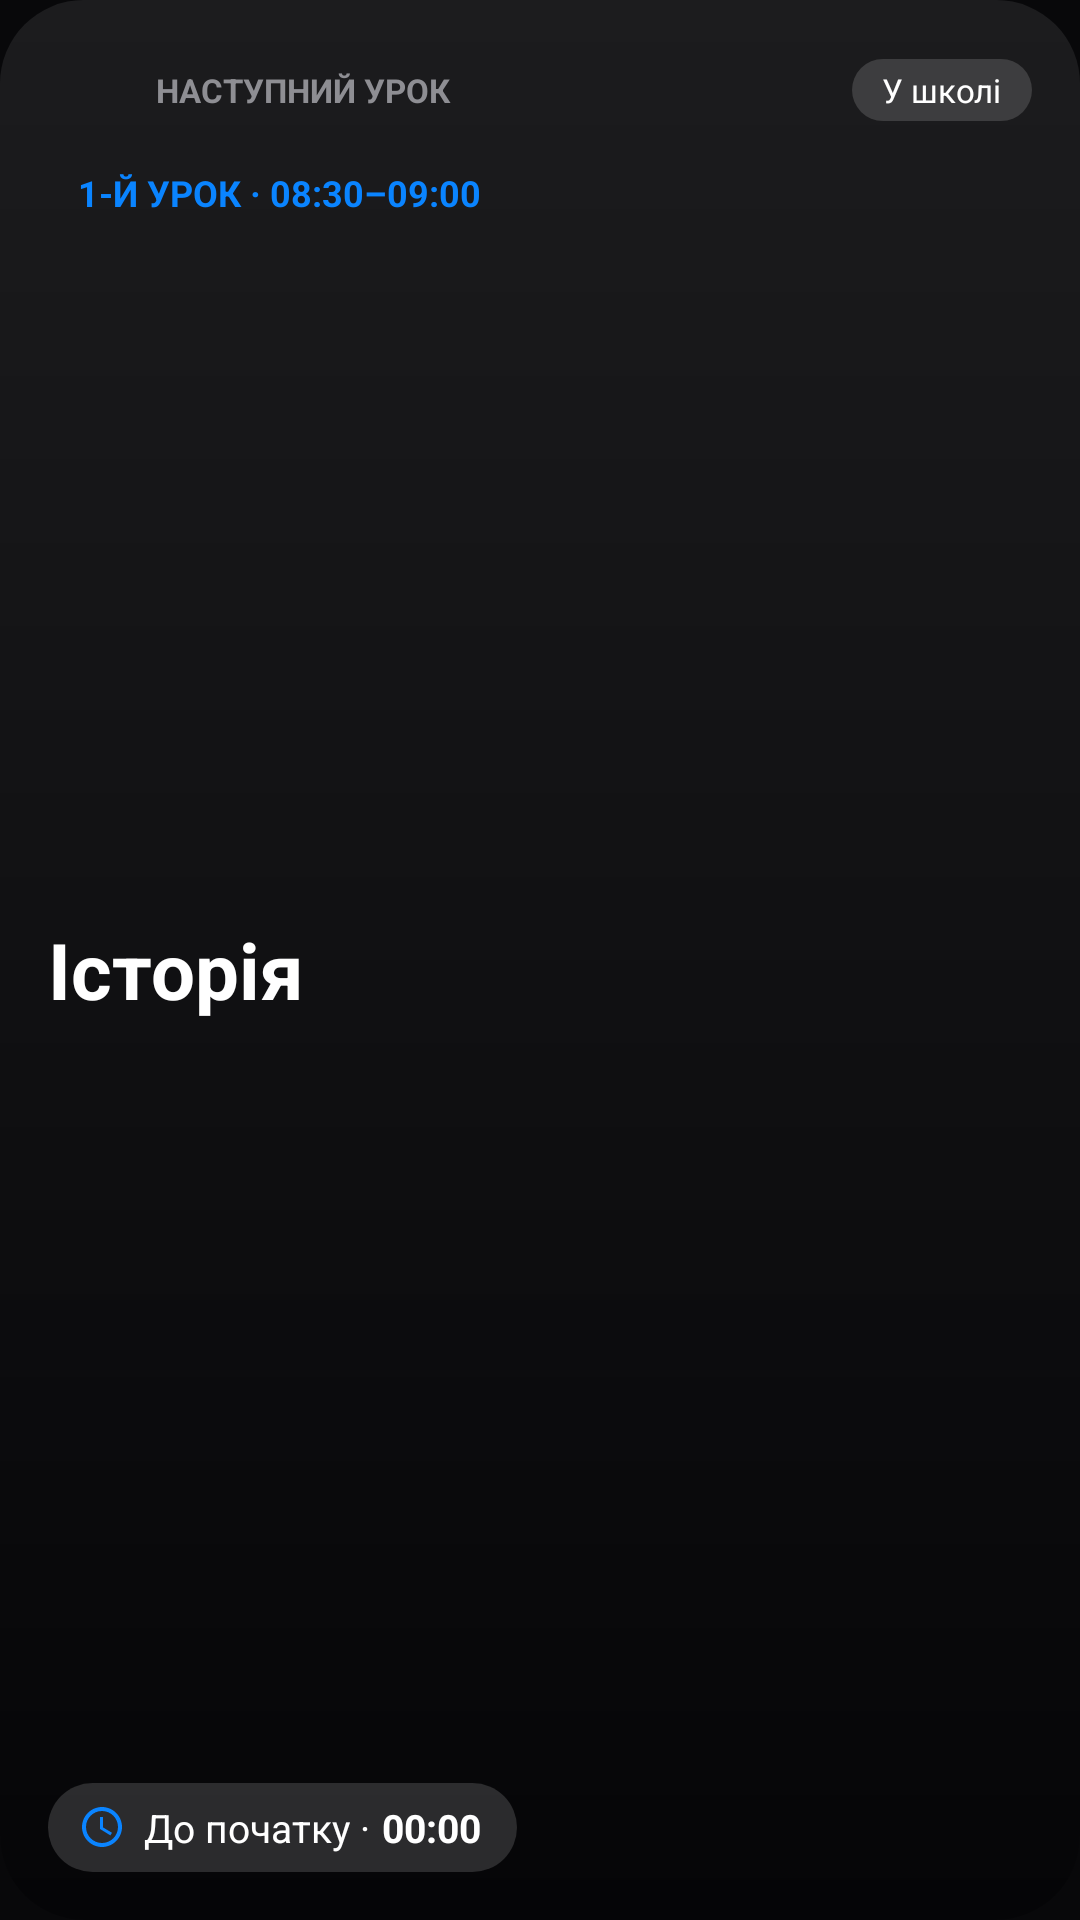

Screen size 1080 × 1920. Icon name, then its center in pixels as (x,y):
clock: (102,1827)
